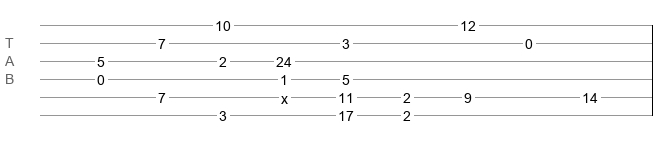0: (97, 72, 105, 82), (525, 36, 533, 46)
1: (280, 72, 288, 82)
10: (215, 18, 231, 28)
11: (338, 90, 354, 100)
12: (460, 18, 476, 28)
14: (582, 90, 598, 100)
17: (338, 108, 354, 118)
2: (219, 54, 227, 64), (403, 90, 411, 100), (403, 108, 411, 118)
24: (276, 54, 292, 64)
3: (219, 108, 227, 118), (342, 36, 350, 46)
5: (97, 54, 105, 64), (342, 72, 350, 82)
7: (158, 90, 166, 100), (158, 36, 166, 46)
9: (464, 90, 472, 100)
x: (281, 91, 288, 99)
